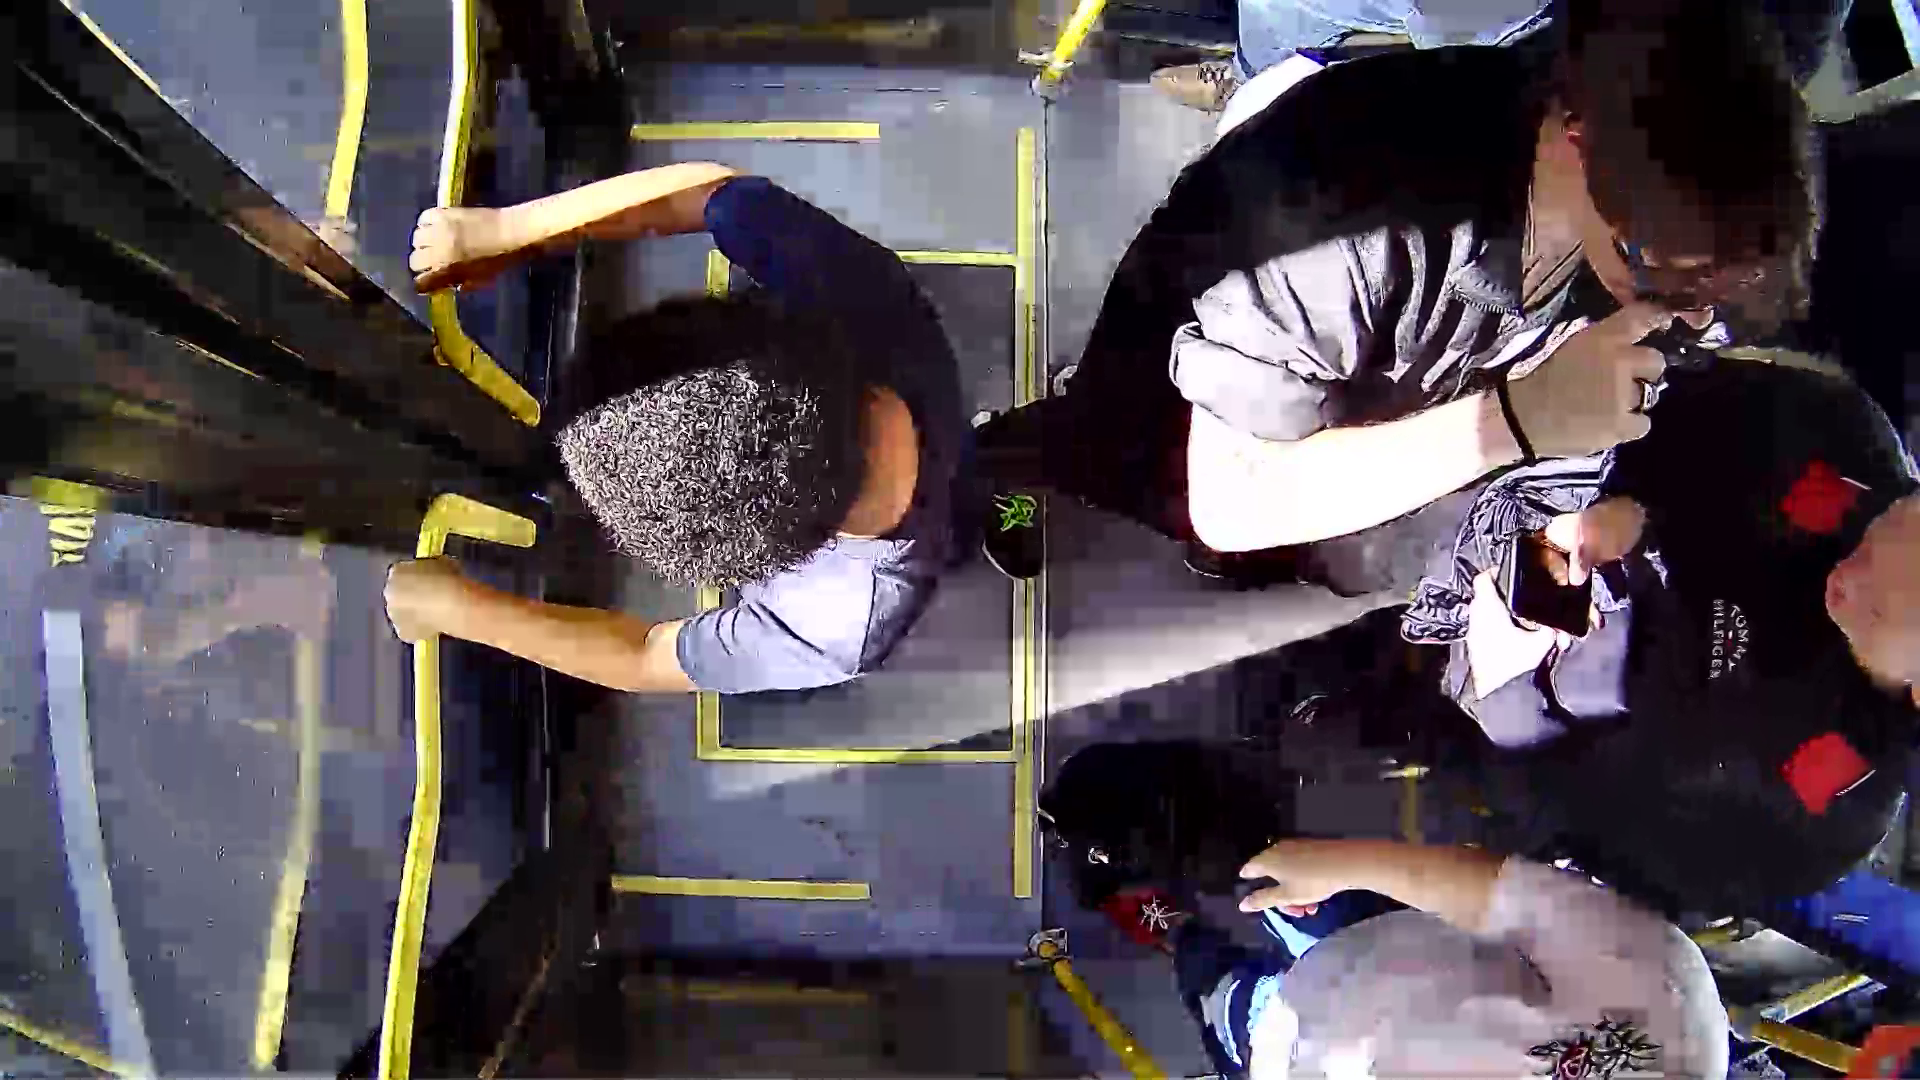person: (1119, 18, 1816, 546), (395, 158, 1018, 733)
